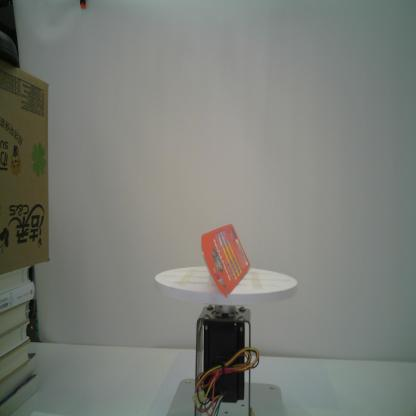Personal Hygiene: (199, 223, 251, 298)
